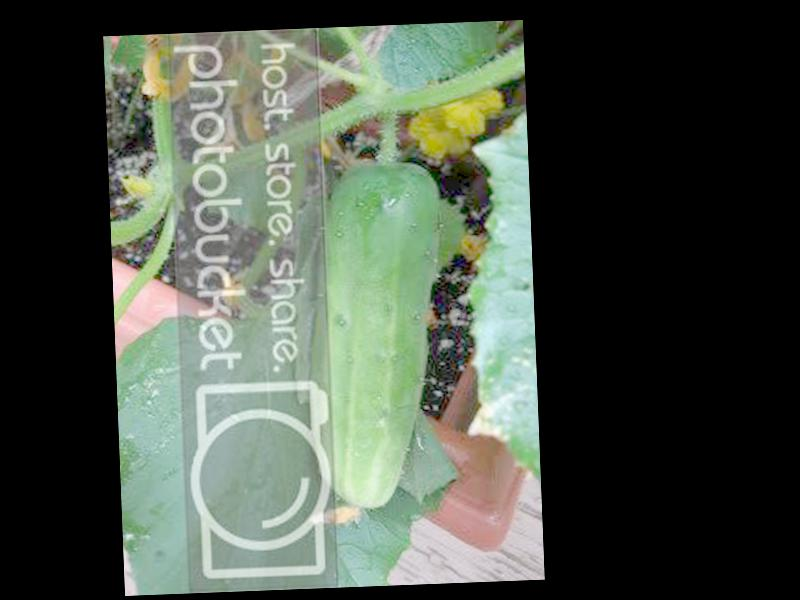Cucumber: (300, 163, 452, 513)
